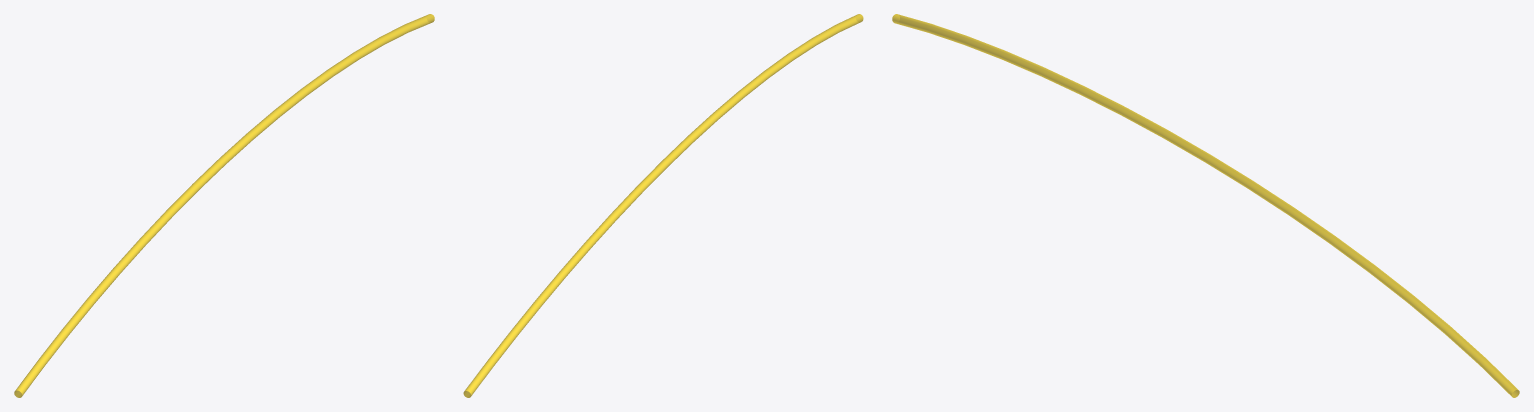
Rendered from Event_17758602_track_115.fbx.
The picture shows the model from 3 angles, left to right: view 1: azimuth 30°, elevation 25°; view 2: azimuth 210°, elevation 25°; view 3: azimuth 270°, elevation 25°; orthographic projection. The views are drawn at different scales.
Parts seen in each view (by area): view 1: Model; view 2: Model; view 3: Model.
Boxes of the visible parts, x1,y1,x2,y2 form: Model: [14, 14, 434, 397]; Model: [463, 14, 863, 397]; Model: [892, 14, 1519, 397].
Size of the model in its own units: 3.63 by 0.2833 by 2.62.
